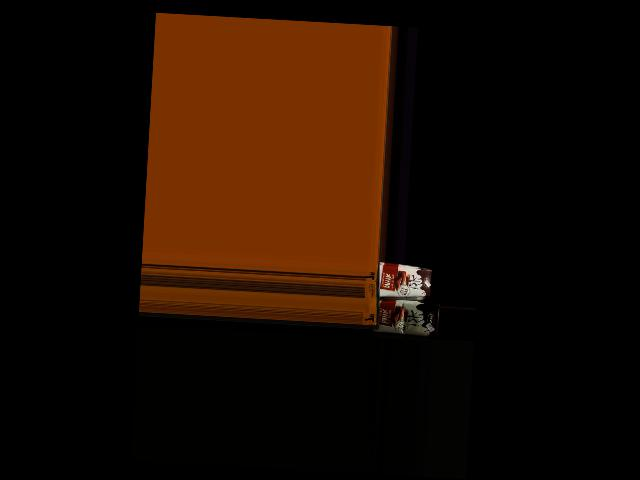chocolate: (371, 258, 433, 299)
